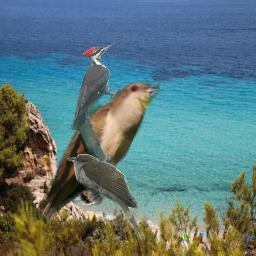Cuckoo: (35, 81, 160, 228), (67, 154, 145, 242)
Woodpecker: (68, 42, 118, 130)
